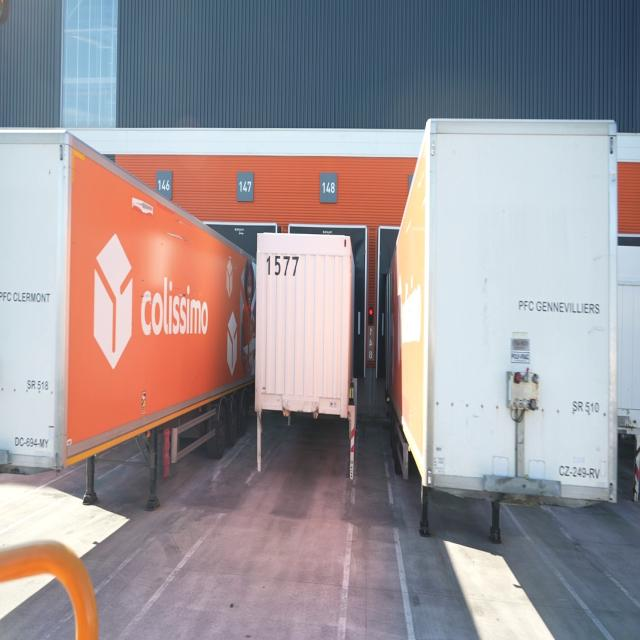Code: (263, 249, 301, 282)
